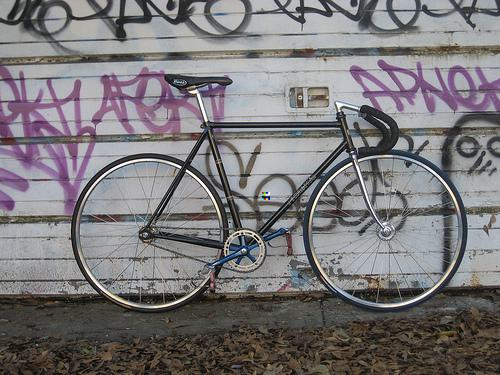car: (65, 74, 468, 318)
